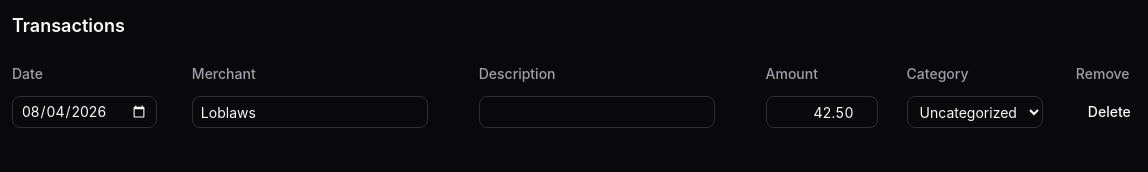
Test case: clearing the date or amount reverts instead of patching an empty value
Clear the date field named "date": (84, 112) [12,96,157,128]
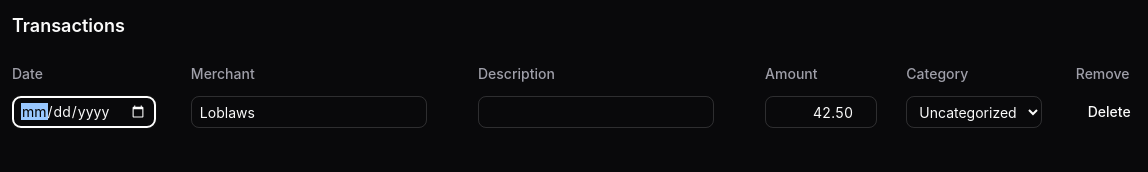
Press Tab
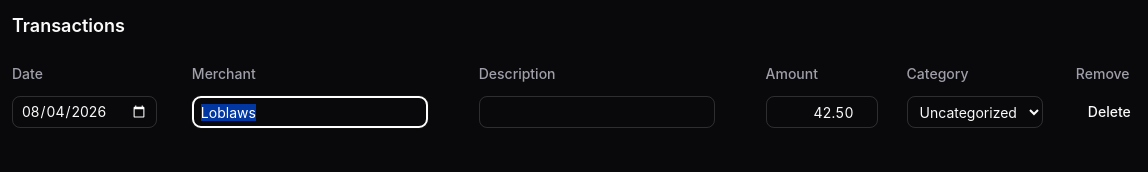
Clear the number field named "amount": (822, 112) [766,96,878,128]
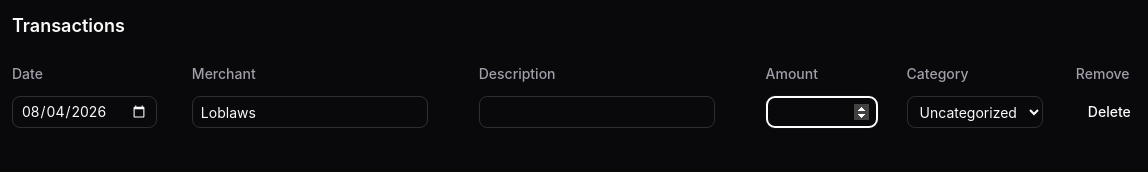
Press Tab
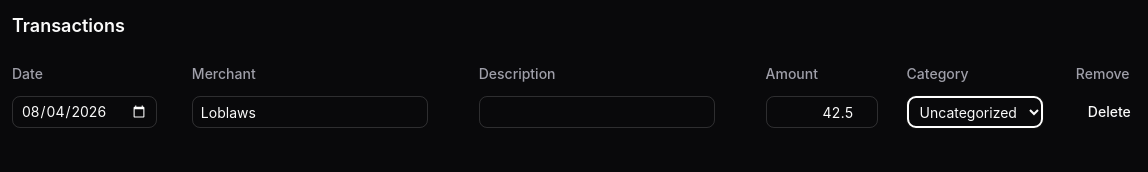
Expected: the date field named "date" holds "2026-08-04", [12,96,157,128]
Expected: the number field named "amount" holds "42.5", [766,96,878,128]
